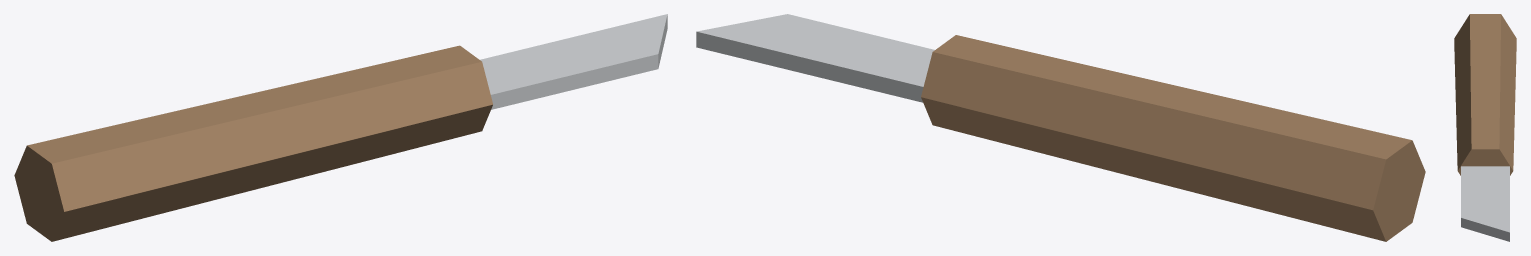
File: prop-labium-cutter.fbx
3 views of the same model, side by side, from view 1: azimuth 30°, elevation 25°; view 2: azimuth 150°, elevation 25°; view 3: azimuth 270°, elevation 25° (orthographic). The views are drawn at different scales.
Visible parts, largest first — view 1: prop-labium-cutter; view 2: prop-labium-cutter; view 3: prop-labium-cutter.
Part boxes in pixels (<box>): prop-labium-cutter: <box>14,14,667,241</box>; prop-labium-cutter: <box>696,14,1425,241</box>; prop-labium-cutter: <box>1454,14,1516,241</box>.
Bounding box in the file's own units: 13.5 × 1.56 × 1.8.
